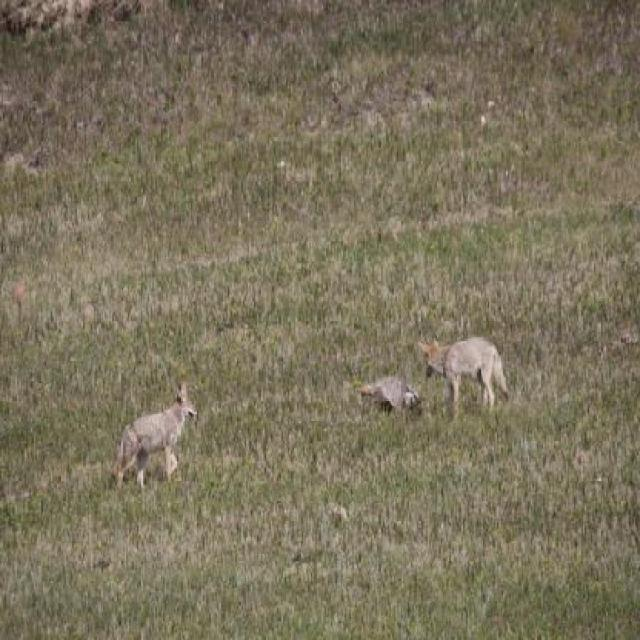Coyote: (111, 383, 198, 491), (418, 338, 510, 422)
